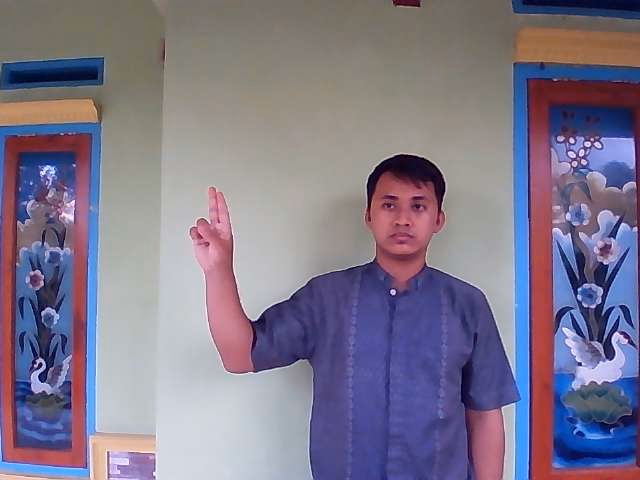U: (188, 185, 234, 266)
